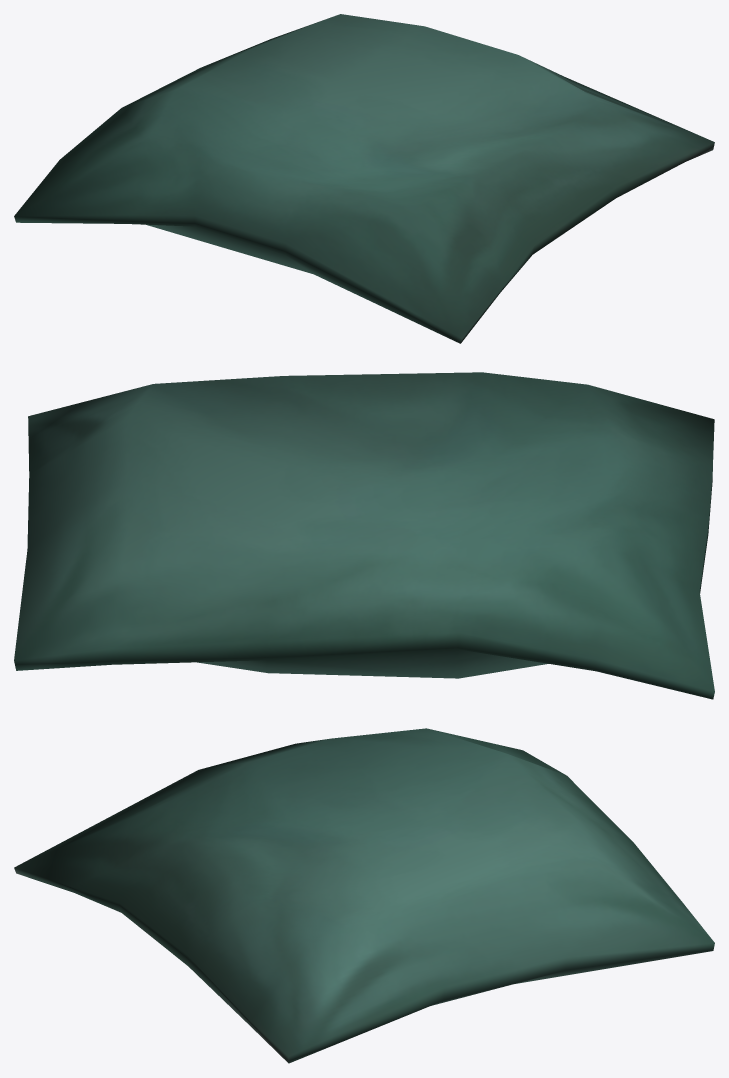
The model's file is ShouTiXiang_01_BaoZhen_01.FBX.
The picture shows the model from 3 angles, top to bottom: view 1: azimuth 30°, elevation 25°; view 2: azimuth 150°, elevation 25°; view 3: azimuth 270°, elevation 25°; orthographic projection. The views are drawn at different scales.
Visible parts, largest first — view 1: ShouTiXiang_daizi; view 2: ShouTiXiang_daizi; view 3: ShouTiXiang_daizi.
Part boxes in pixels (x1,y1,x2,y2): ShouTiXiang_daizi: [14, 14, 714, 343]; ShouTiXiang_daizi: [14, 372, 714, 699]; ShouTiXiang_daizi: [14, 728, 714, 1063].
Size of the model in its own units: 185 by 30.24 by 178.
